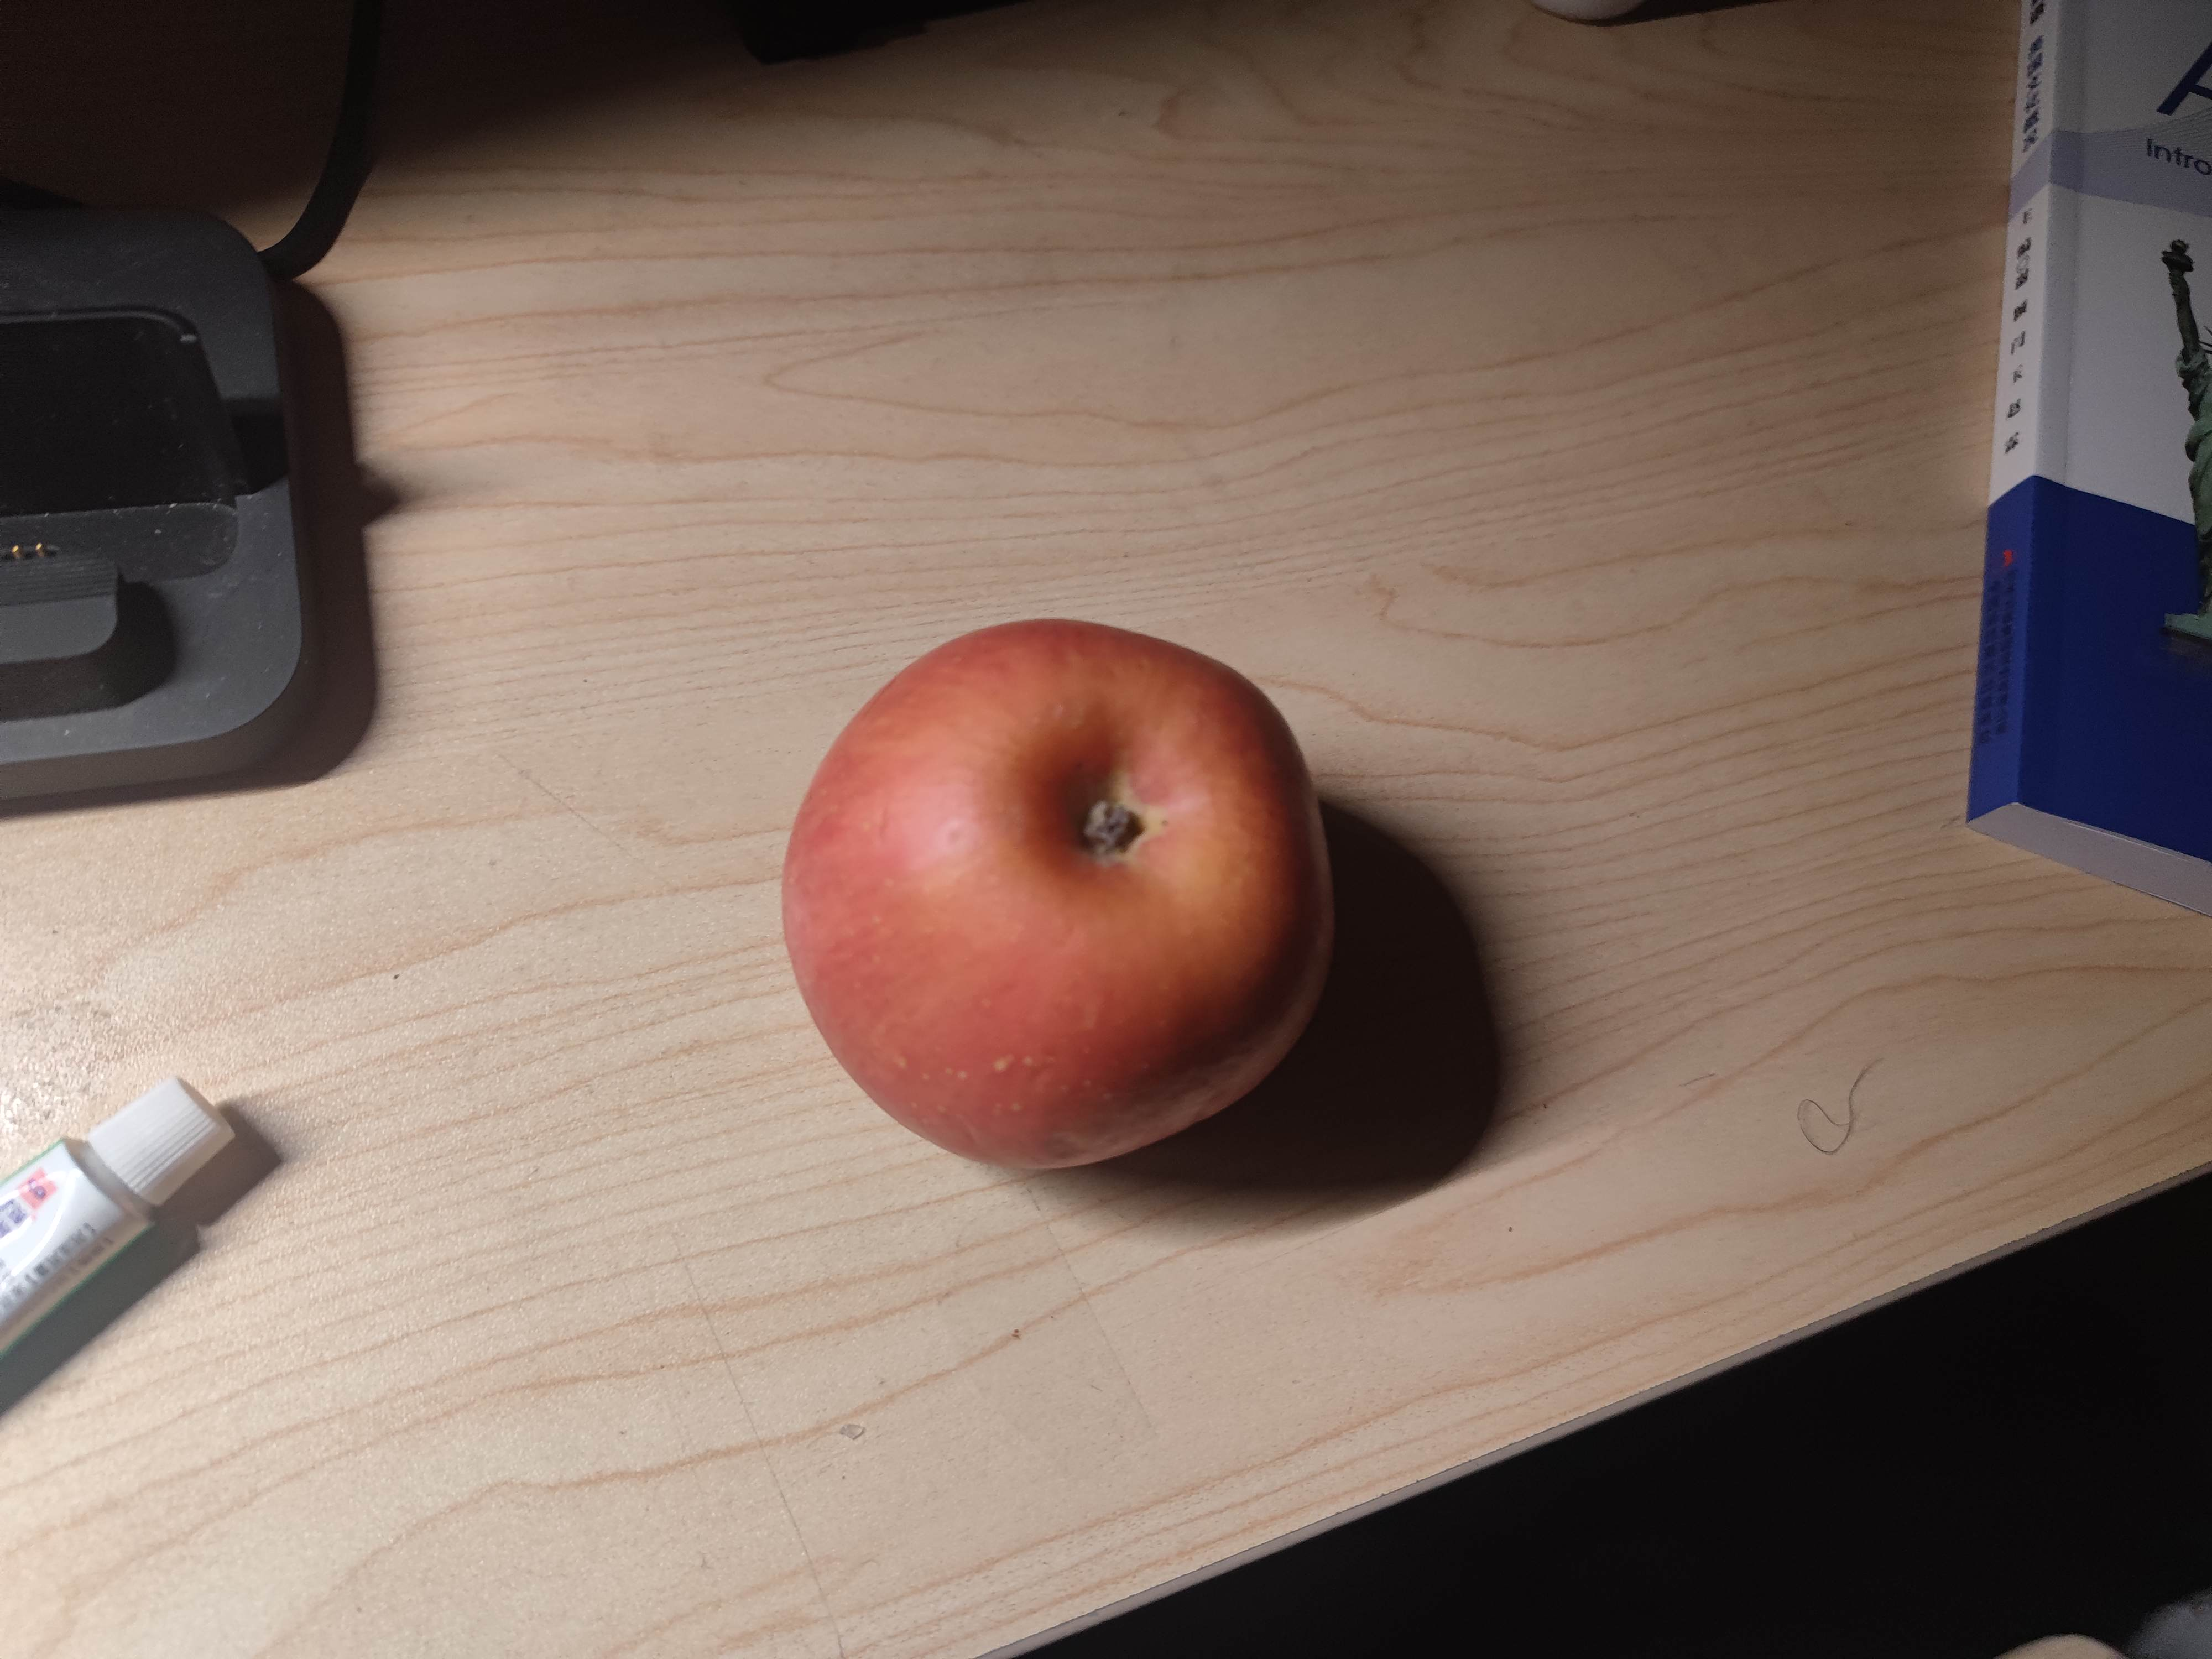apple: (784, 617, 1339, 1178)
